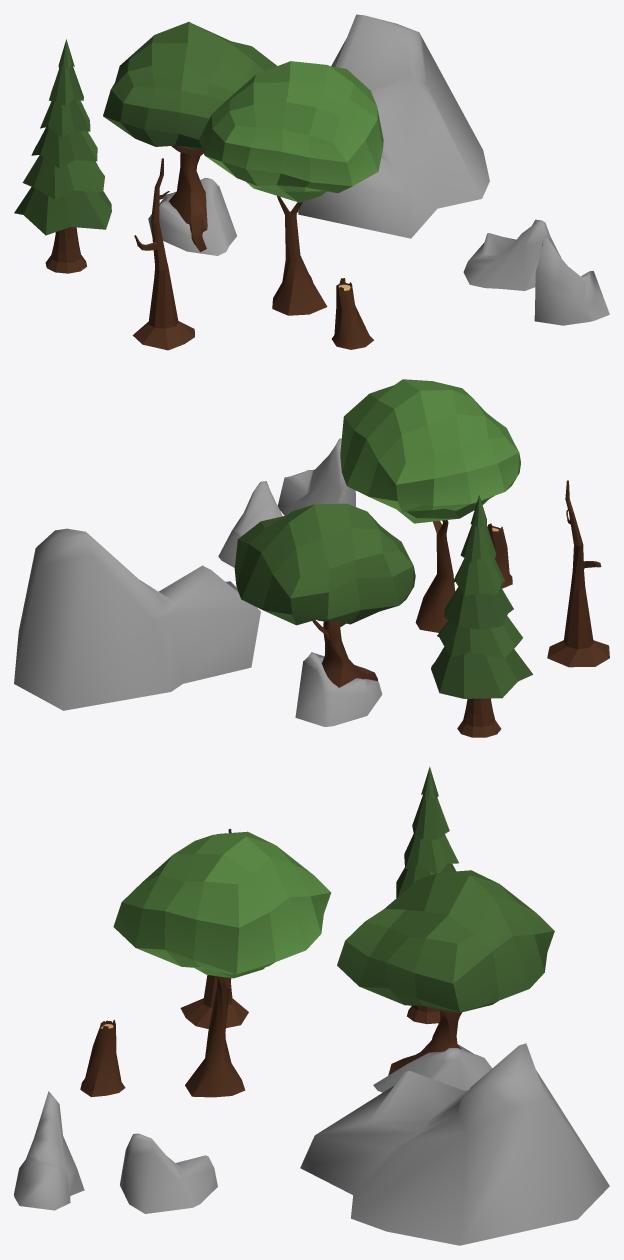
The model's file is WorldAssets.fbx.
3 renders of one model, top to bottom at view 1: azimuth 30°, elevation 25°; view 2: azimuth 150°, elevation 25°; view 3: azimuth 270°, elevation 25°, orthographic. The views are drawn at different scales.
Visible parts, largest first — view 1: Rock T (1).002, TreeLeafless.003, TreeLeafless.002, Tree, Rock T (2), Rock T (1), TreeLeafless.004, Rock T (1).001, TreeLeafless, TreeLeafless.001, Stump; view 2: Rock T (1).002, TreeLeafless.003, TreeLeafless.002, Tree, Rock T (1).001, TreeLeafless.004, Rock T (2), TreeLeafless, TreeLeafless.001, Rock T (1), Stump; view 3: Rock T (1).002, TreeLeafless.003, TreeLeafless.002, Rock T (1), Rock T (2), Tree, TreeLeafless, Rock T (1).001, Stump, TreeLeafless.004, TreeLeafless.001.
Part boxes in pixels (box(x1,y1,x2,y2)): Rock T (1).002: box(298, 14, 489, 238); TreeLeafless.003: box(199, 61, 383, 202); TreeLeafless.002: box(103, 22, 276, 150); Tree: box(14, 39, 111, 273); Rock T (2): box(534, 238, 609, 325); Rock T (1): box(463, 219, 560, 290); TreeLeafless.004: box(132, 158, 194, 350); Rock T (1).001: box(148, 178, 236, 255); TreeLeafless: box(272, 196, 327, 315); TreeLeafless.001: box(168, 145, 207, 252); Stump: box(332, 278, 373, 349); Rock T (1).002: box(14, 528, 260, 710); TreeLeafless.003: box(340, 379, 520, 523); TreeLeafless.002: box(234, 503, 415, 625); Tree: box(431, 495, 532, 737); Rock T (1).001: box(295, 652, 382, 726); TreeLeafless.004: box(547, 480, 609, 667); Rock T (2): box(277, 438, 355, 515); TreeLeafless: box(415, 520, 455, 632); TreeLeafless.001: box(312, 620, 377, 687); Rock T (1): box(218, 481, 282, 567); Stump: box(487, 523, 512, 588); Rock T (1).002: box(300, 1043, 609, 1245); TreeLeafless.003: box(113, 831, 331, 978); TreeLeafless.002: box(337, 870, 554, 1012); Rock T (1): box(120, 1133, 217, 1213); Rock T (2): box(14, 1091, 84, 1210); Tree: box(396, 766, 458, 1024); TreeLeafless: box(185, 976, 245, 1097); Rock T (1).001: box(373, 1044, 492, 1092); Stump: box(80, 1019, 125, 1097); TreeLeafless.004: box(180, 829, 248, 1028); TreeLeafless.001: box(388, 1009, 461, 1075).
Bounding box in the file's own units: 482 × 228 × 481.
